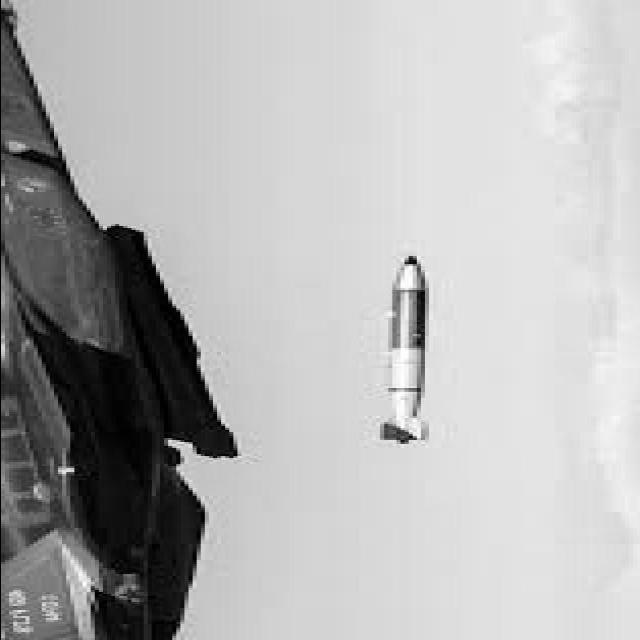missile: (378, 249, 447, 450)
